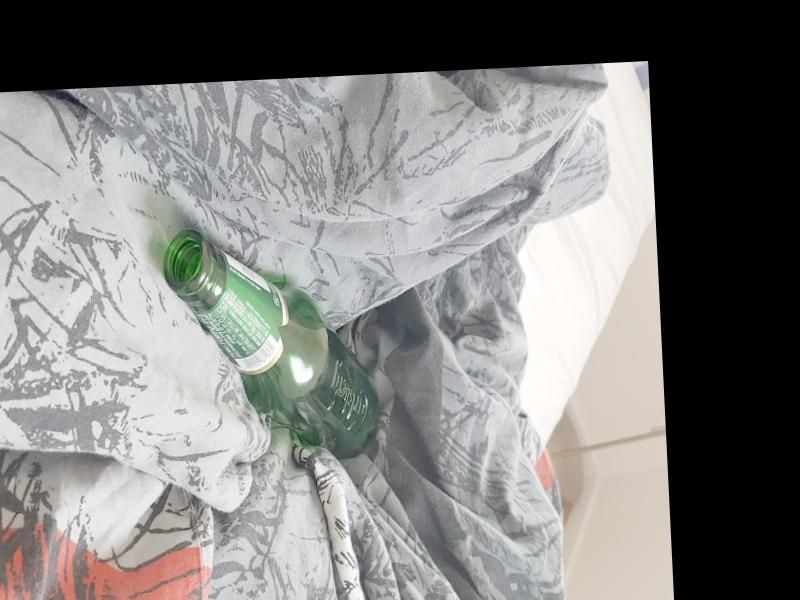Beer: (161, 224, 380, 468)
